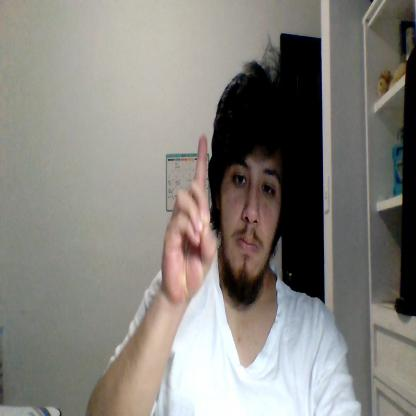D: (161, 135, 217, 301)
